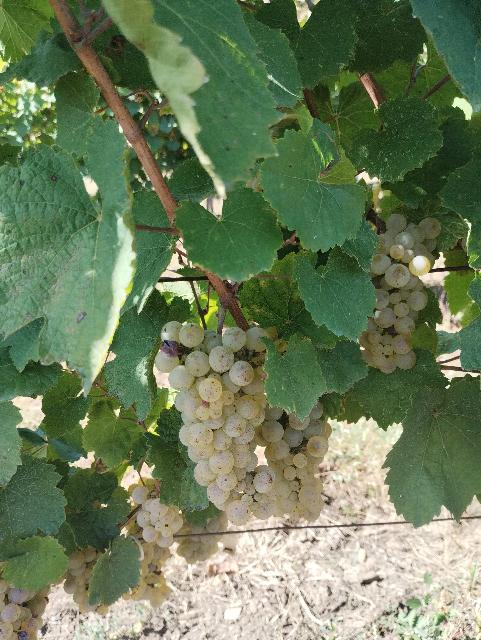grapes: (155, 321, 268, 524), (360, 214, 441, 374), (256, 402, 331, 521), (136, 498, 184, 549)
